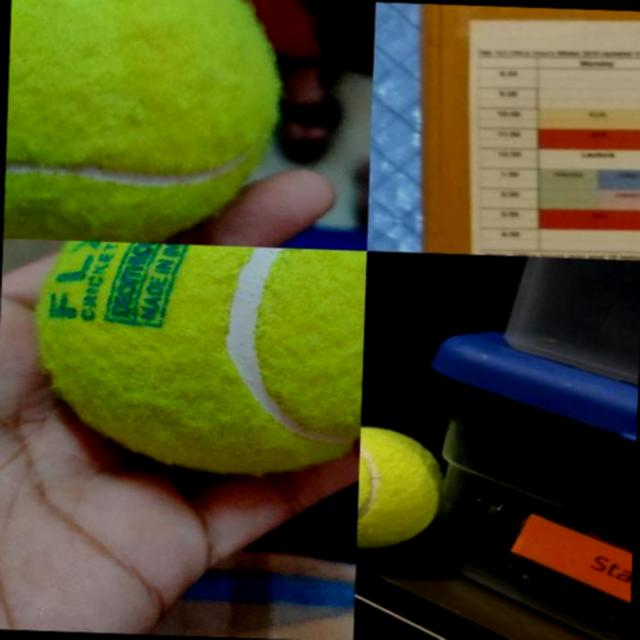tennis-ball: (32, 240, 365, 478), (3, 0, 281, 246), (356, 424, 442, 552)
